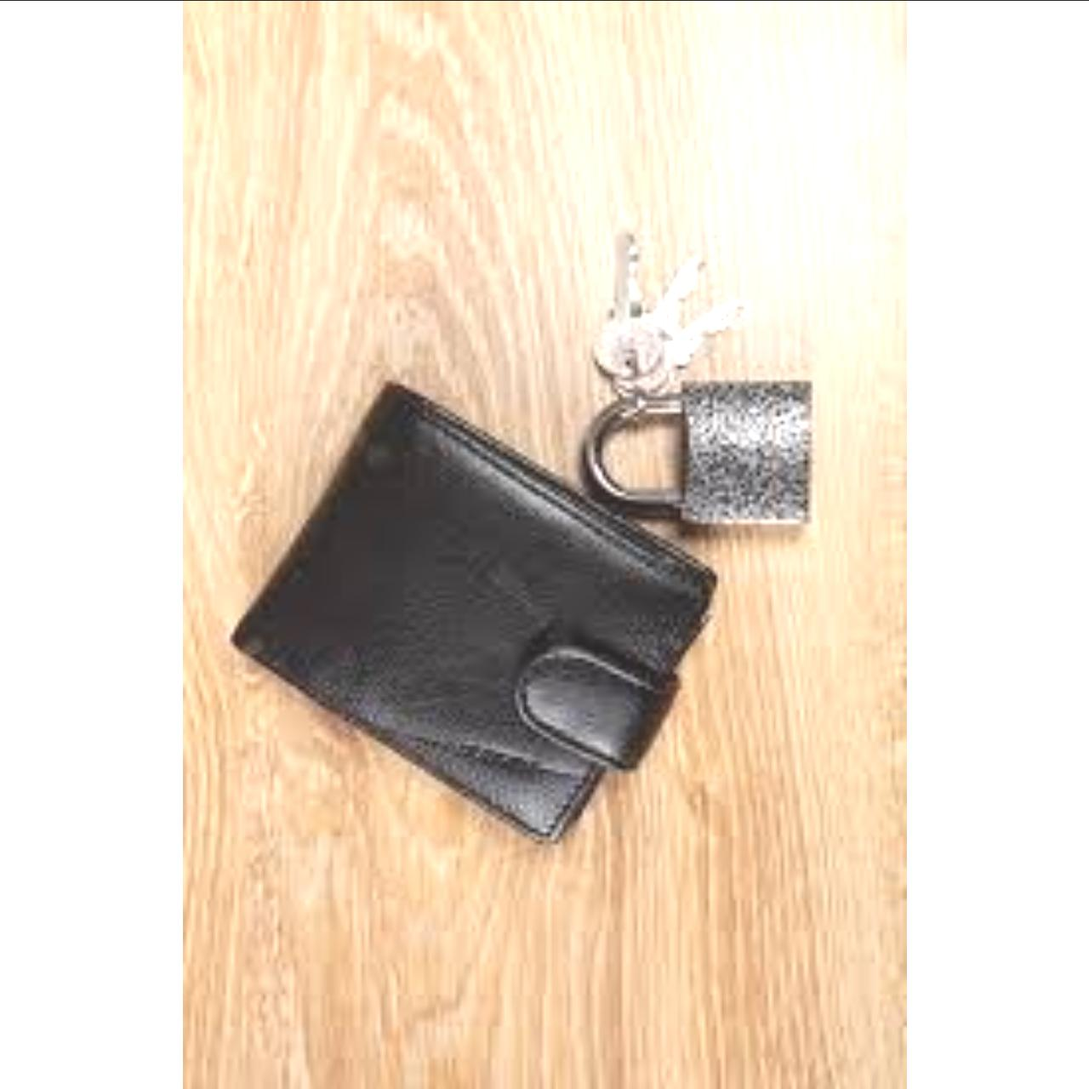wallet: (202, 378, 708, 857)
